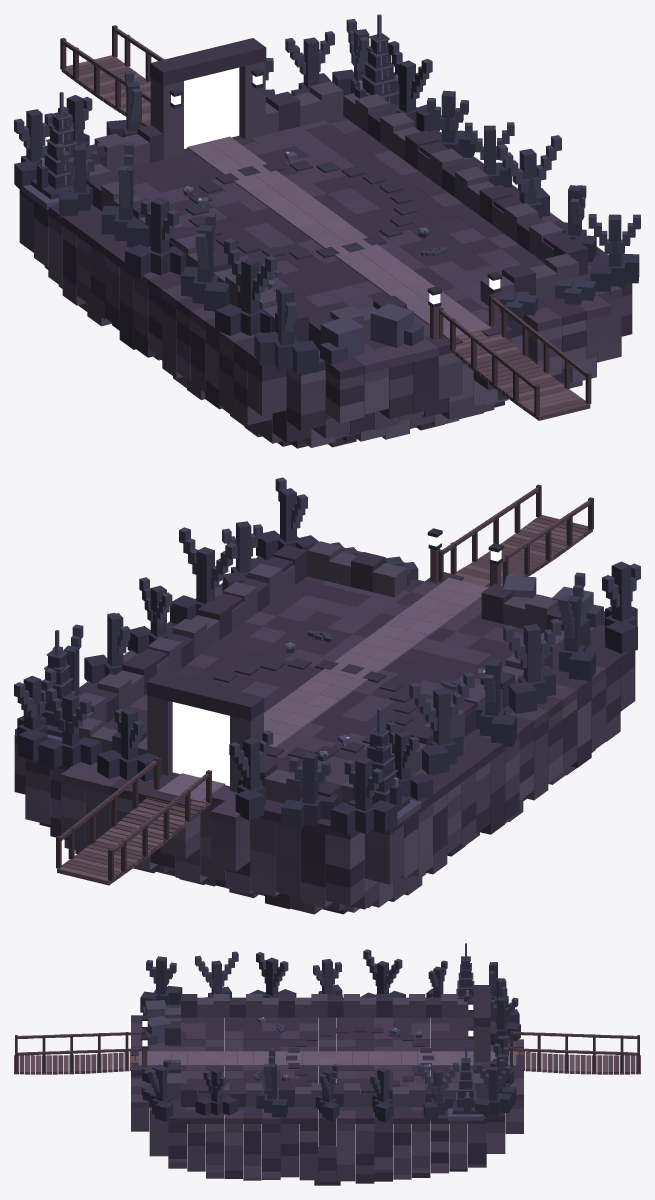
Rendered from room_boss_polluted.glb.
3 views of the same model, one above another, from view 1: azimuth 30°, elevation 25°; view 2: azimuth 150°, elevation 25°; view 3: azimuth 270°, elevation 25° (orthographic). The views are drawn at different scales.
Parts seen in each view (by area): view 1: room_boss_blocks, tree2_(0, 0).001, tree0_(0, 0).001, tree0_(0, 0).002, tree1_(0, 0).001, rock_boss_relic_0_(0, 0).001, tree4_(0, 0).001, tree5_(0, 0).001, tree2_(0, 0).002, tree5_(0, 0).002, rock_boss_relic_0_(0, 0).002, tree4_(0, 0).002 (+12 smaller); view 2: room_boss_blocks, tree4_(0, 0).001, tree2_(0, 0).002, tree0_(0, 0).003, tree1_(0, 0).004, tree0_(0, 0).001, tree5_(0, 0).001, tree0_(0, 0).004, tree0_(0, 0).005, tree4_(0, 0).003, tree1_(0, 0).003, tree2_(0, 0).001 (+11 smaller); view 3: room_boss_blocks, tree1_(0, 0).003, rock_boss_relic_0_(0, 0).002, tree5_(0, 0).002, tree0_(0, 0).001, tree3_(0, 0).001, tree5_(0, 0).001, tree1_(0, 0).001, tree2_(0, 0).002, tree4_(0, 0).001, tree4_(0, 0).003, tree2_(0, 0).001 (+10 smaller).
Part boxes in pixels (box(x1,y1,x2,y2)): room_boss_blocks: box(19, 25, 632, 448); tree2_(0, 0).001: box(215, 238, 276, 335); tree0_(0, 0).001: box(254, 286, 318, 374); tree0_(0, 0).002: box(125, 197, 185, 278); tree1_(0, 0).001: box(588, 214, 640, 294); rock_boss_relic_0_(0, 0).001: box(20, 92, 77, 209); tree4_(0, 0).001: box(181, 213, 229, 311); tree5_(0, 0).001: box(497, 135, 561, 219); tree2_(0, 0).002: box(101, 142, 148, 247); tree5_(0, 0).002: box(388, 41, 439, 131); rock_boss_relic_0_(0, 0).002: box(354, 14, 399, 106); tree4_(0, 0).002: box(56, 143, 104, 218); room_boss_blocks: box(14, 484, 635, 914); tree4_(0, 0).001: box(503, 619, 561, 713); tree2_(0, 0).002: box(409, 672, 474, 775); tree0_(0, 0).003: box(330, 757, 397, 835); tree1_(0, 0).004: box(38, 687, 101, 769); tree0_(0, 0).001: box(602, 561, 640, 653); tree5_(0, 0).001: box(170, 527, 237, 624); tree0_(0, 0).004: box(281, 752, 338, 829); tree0_(0, 0).005: box(97, 708, 161, 781); tree4_(0, 0).003: box(229, 730, 273, 820); tree1_(0, 0).003: box(14, 668, 56, 761); tree2_(0, 0).001: box(559, 572, 595, 683); room_boss_blocks: box(14, 985, 640, 1185); tree1_(0, 0).003: box(475, 1063, 512, 1118); rock_boss_relic_0_(0, 0).002: box(448, 1045, 483, 1120); tree5_(0, 0).002: box(418, 1062, 458, 1120); tree0_(0, 0).001: box(140, 956, 182, 1012); tree3_(0, 0).001: box(195, 1068, 237, 1115); tree5_(0, 0).001: box(256, 1048, 287, 1117); tree1_(0, 0).001: box(148, 1059, 173, 1121); tree2_(0, 0).002: box(360, 949, 405, 997); tree4_(0, 0).001: box(249, 952, 296, 997); tree4_(0, 0).003: box(490, 994, 520, 1045); tree2_(0, 0).001: box(195, 951, 238, 997).
Size of the model in its own units: 17.98 by 12.56 by 38.5.
